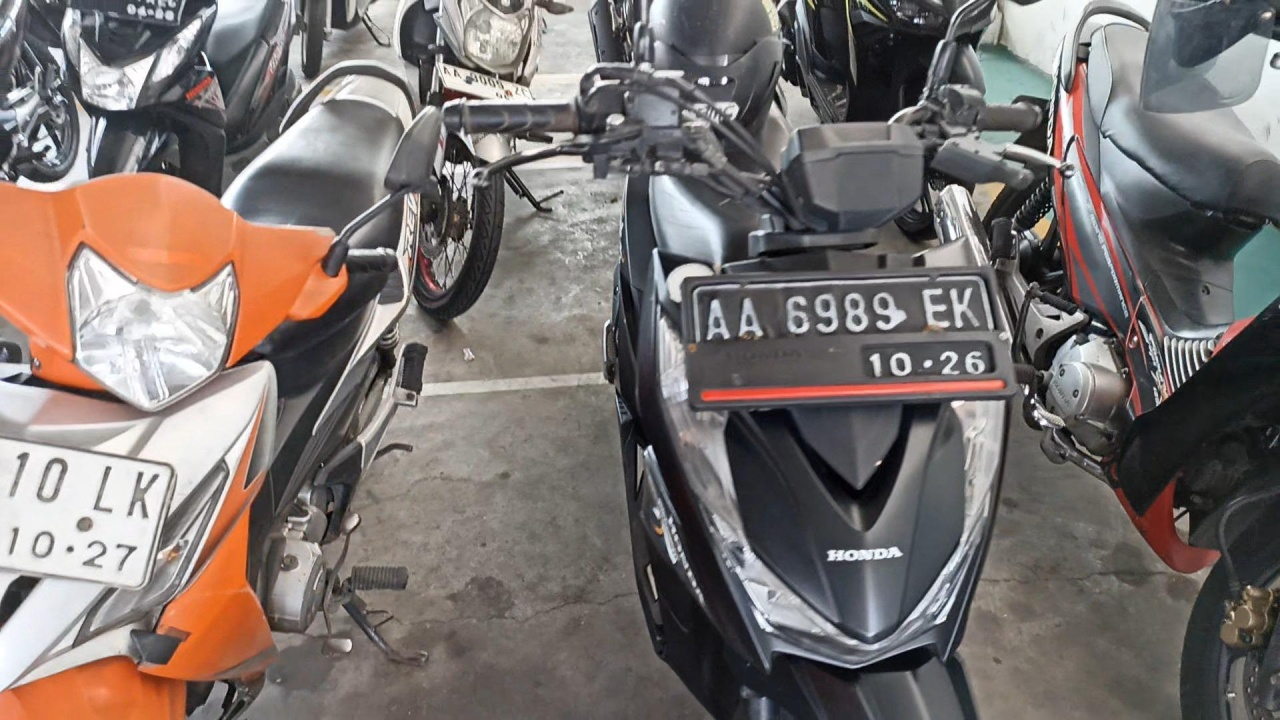plate: (689, 271, 1012, 400)
